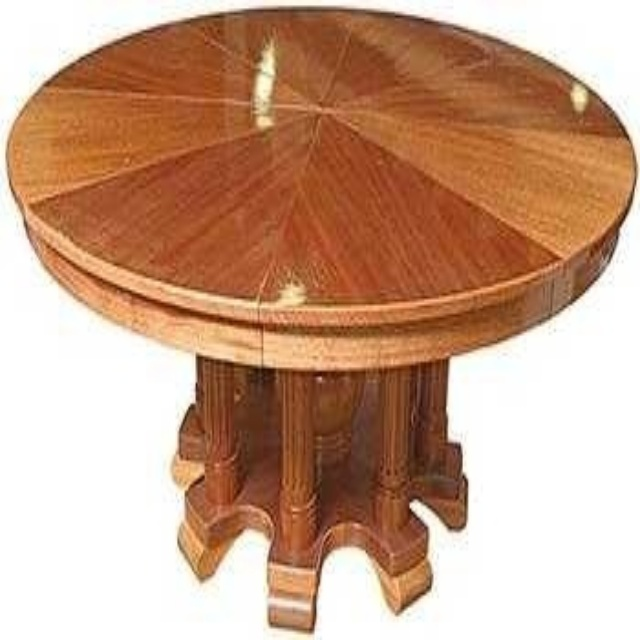obstacle: (0, 0, 638, 634)
